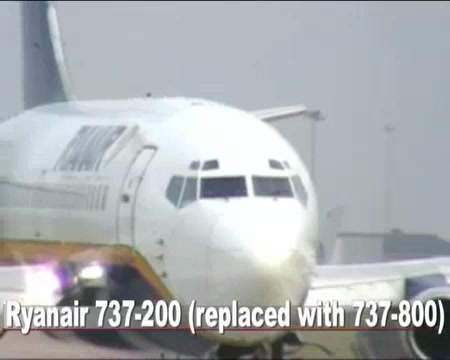aeroplane: (2, 2, 450, 360)
